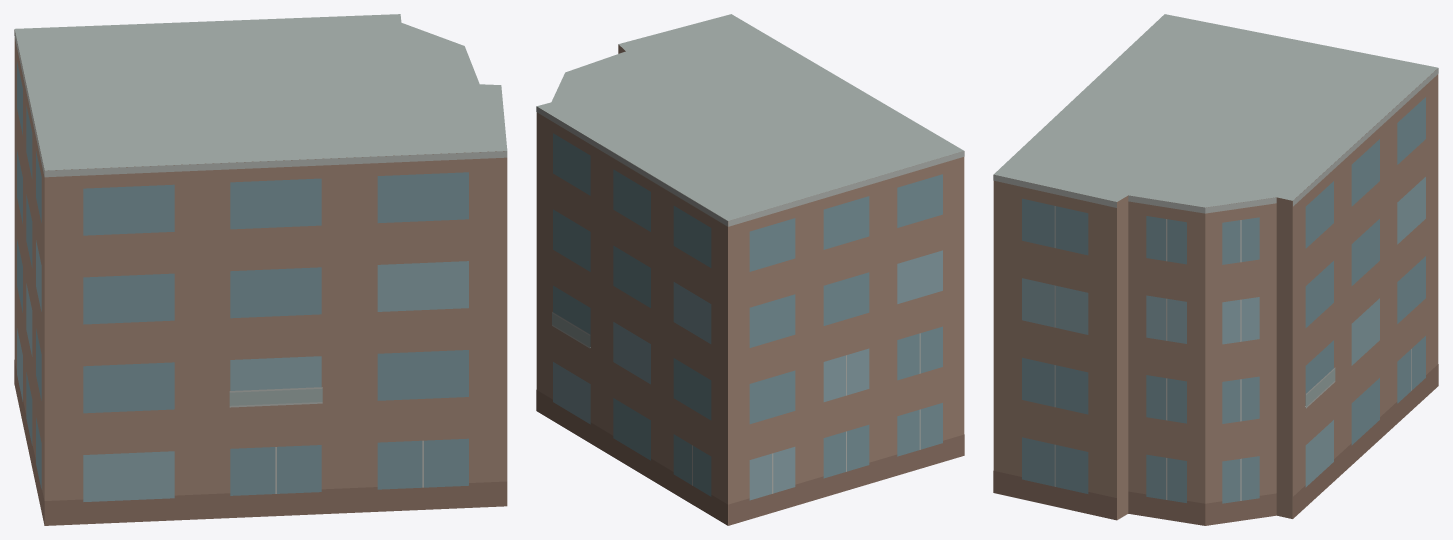
The model's file is survey-upis-32800037.glb.
3 renders of one model, left to right at view 1: azimuth 30°, elevation 25°; view 2: azimuth 150°, elevation 25°; view 3: azimuth 270°, elevation 25°, orthographic. The views are drawn at different scales.
Visible parts, largest first — view 1: survey-upis-32800037.tmp; view 2: survey-upis-32800037.tmp; view 3: survey-upis-32800037.tmp.
Boxes of the visible parts, bbox=[...] form: survey-upis-32800037.tmp: bbox=[14, 14, 507, 525]; survey-upis-32800037.tmp: bbox=[536, 14, 964, 525]; survey-upis-32800037.tmp: bbox=[993, 14, 1438, 525].
Size of the model in its own units: 16.78 by 12.86 by 16.3.
